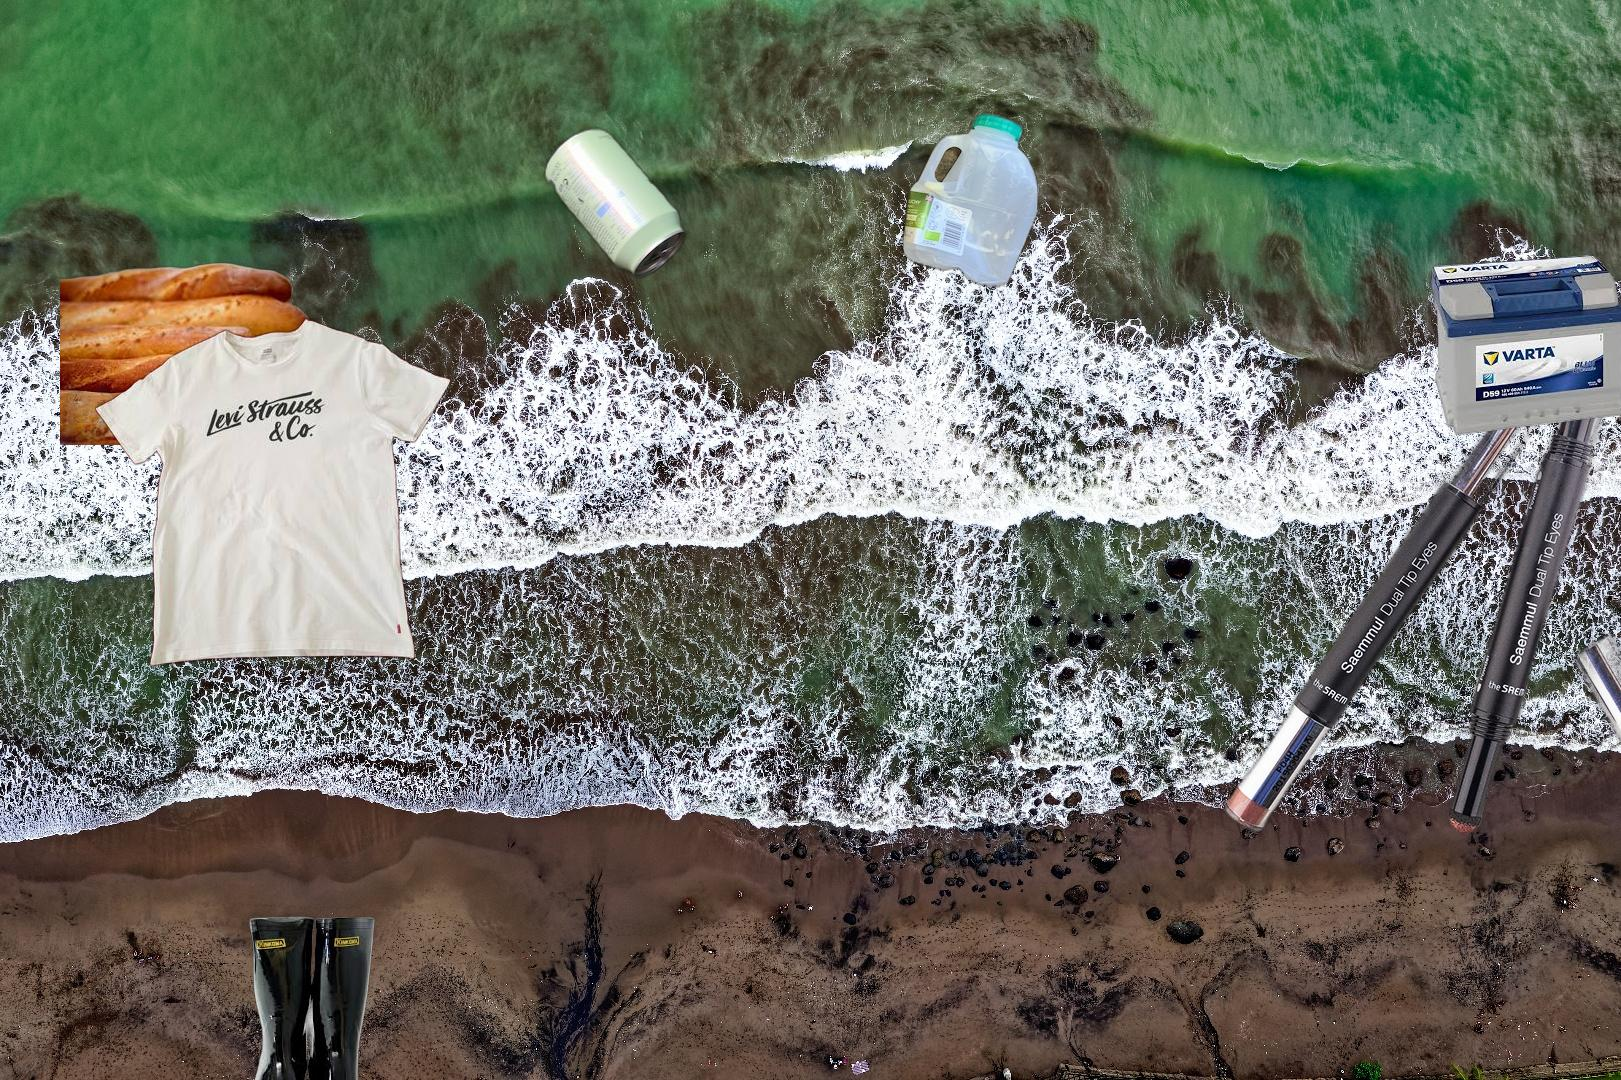battery: (1428, 252, 1621, 438)
biological: (60, 259, 315, 445)
clothes: (93, 315, 453, 671)
metal-cans: (457, 89, 958, 606)
penholder: (1218, 331, 1621, 839)
plastic-bottles: (660, 108, 1043, 601)
shoes: (231, 912, 378, 1080)
